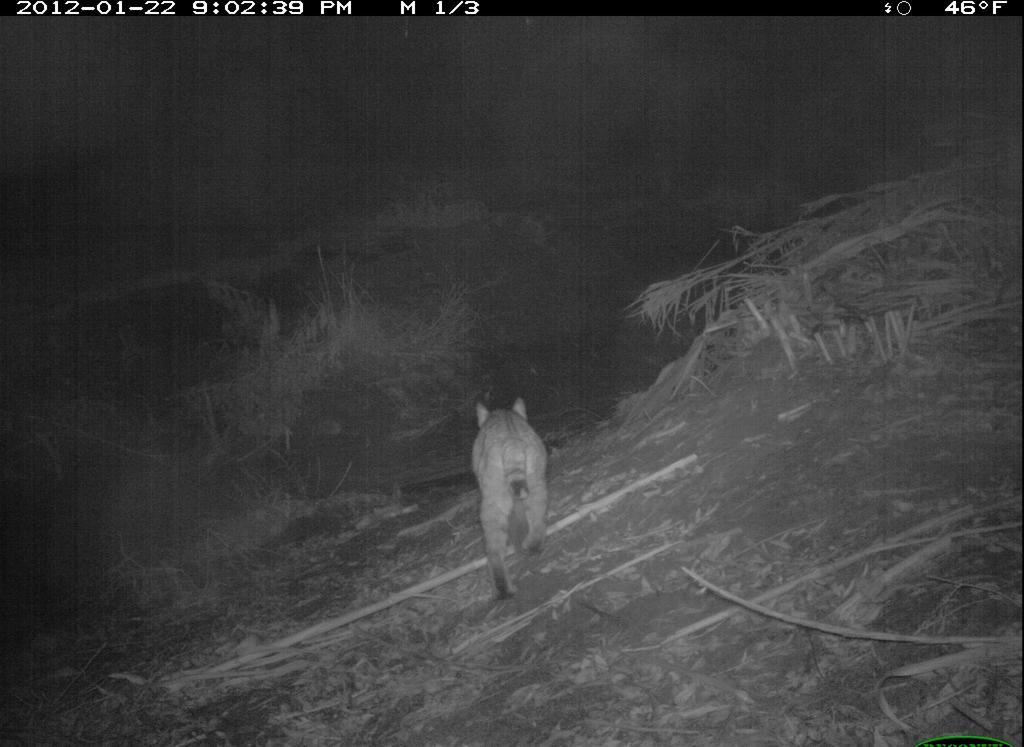bobcat: (463, 388, 560, 609)
